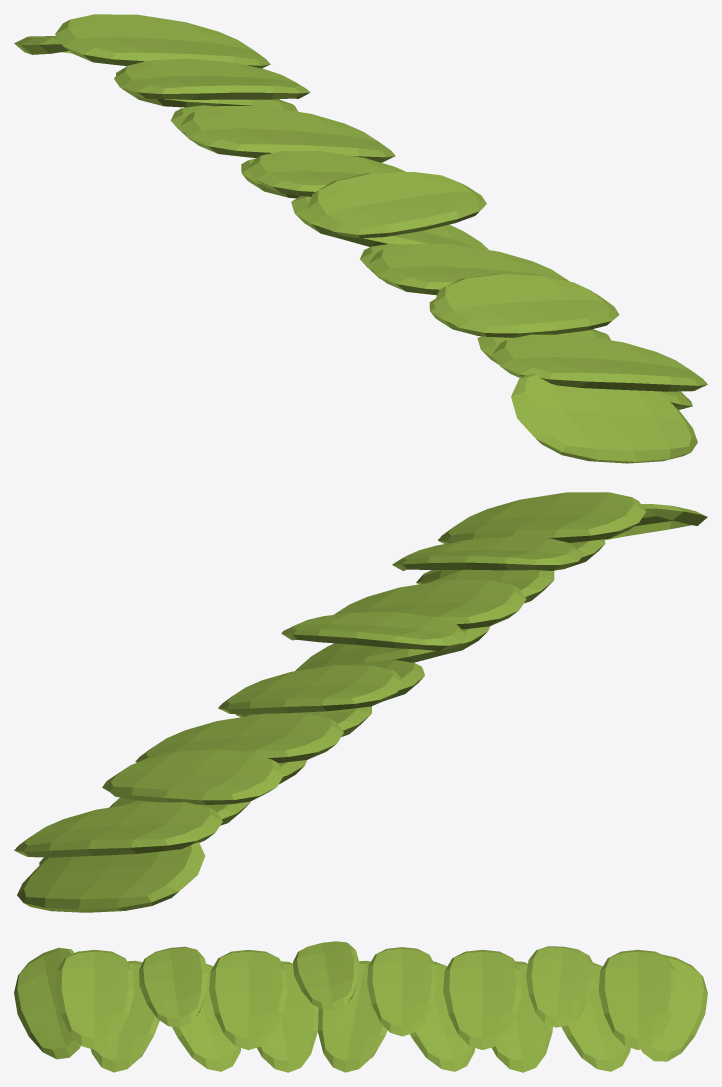
File: grassside4.fbx
The picture shows the model from 3 angles, top to bottom: view 1: azimuth 30°, elevation 25°; view 2: azimuth 150°, elevation 25°; view 3: azimuth 270°, elevation 25°; orthographic projection. The views are drawn at different scales.
Visible parts, largest first — view 1: sidegrass.003; view 2: sidegrass.003; view 3: sidegrass.003.
Boxes of the visible parts, x1,y1,x2,y2 form: sidegrass.003: [14, 14, 707, 463]; sidegrass.003: [14, 492, 707, 912]; sidegrass.003: [14, 941, 707, 1072].
Size of the model in its own units: 23.67 by 11.83 by 99.15.
